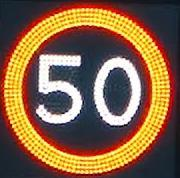Speed Limit -50-: (0, 1, 179, 177)
